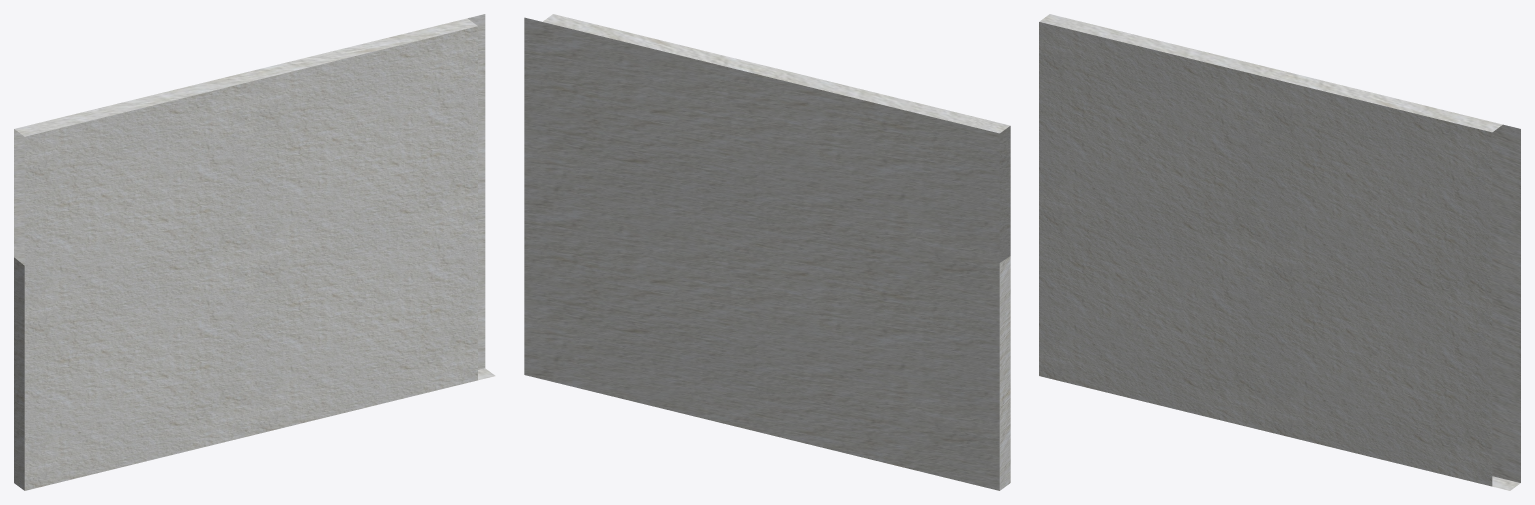
File: wall_06.obj
3 views of the same model, side by side, from view 1: azimuth 30°, elevation 25°; view 2: azimuth 150°, elevation 25°; view 3: azimuth 330°, elevation 25° (orthographic).
Visible parts, largest first — view 1: Cube.001; view 2: Cube.001; view 3: Cube.001.
Boxes of the visible parts, x1,y1,x2,y2 form: Cube.001: (14, 14, 495, 490); Cube.001: (524, 14, 1010, 490); Cube.001: (1039, 14, 1520, 490).
Bounding box in the file's own units: 7.14 × 5.13 × 0.2805.
Materials: 1 (1 with a texture image).
